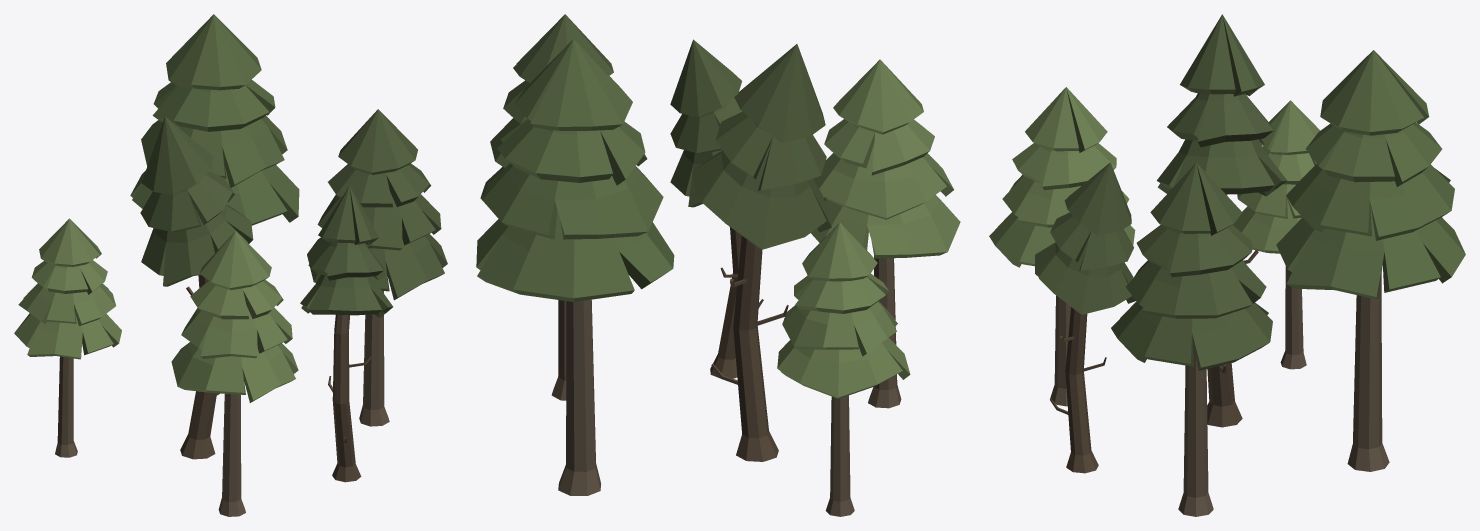
Rendered from SM_Envr_Nature_Tree_Group_Pine_01.fbx.
3 views of the same model, side by side, from view 1: azimuth 30°, elevation 25°; view 2: azimuth 150°, elevation 25°; view 3: azimuth 270°, elevation 25° (orthographic). The views are drawn at different scales.
Parts seen in each view (by area): view 1: SM_Envr_Nature_Tree_Group_Pine_01; view 2: SM_Envr_Nature_Tree_Group_Pine_01; view 3: SM_Envr_Nature_Tree_Group_Pine_01.
Boxes of the visible parts, bbox=[...] form: SM_Envr_Nature_Tree_Group_Pine_01: bbox=[14, 14, 447, 516]; SM_Envr_Nature_Tree_Group_Pine_01: bbox=[476, 14, 960, 516]; SM_Envr_Nature_Tree_Group_Pine_01: bbox=[989, 14, 1465, 516].
Size of the model in its own units: 987 by 914 by 953.
